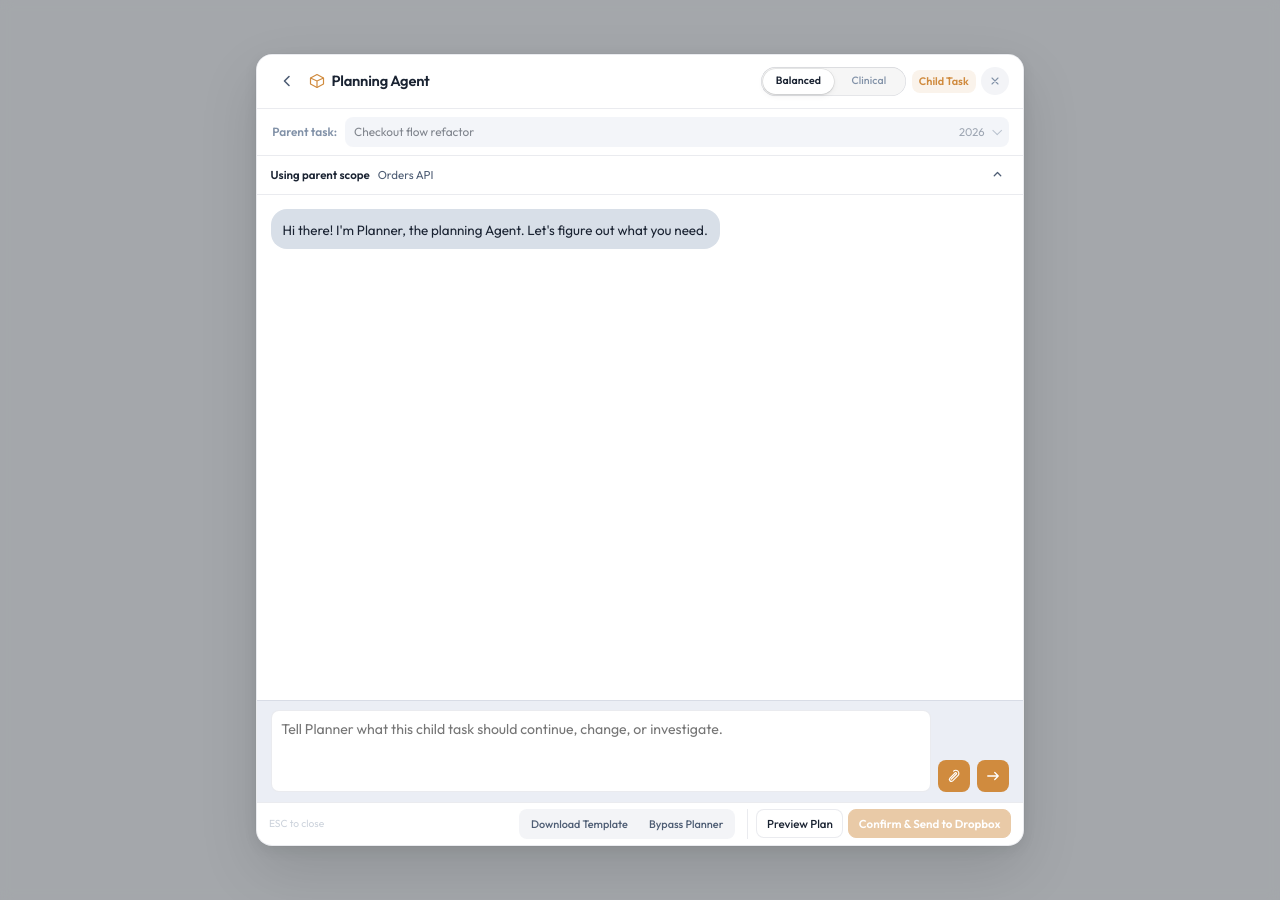
PlannerModal child scope override affordance › collapses and restores the parent task controls
The width and height of the screenshot is (1280, 900).
Check: the text "Orders API" is shown, box x1=378 y1=166 x2=433 y2=184
Click the button named "Collapse parent task controls": (997, 175) x1=985 y1=163 x2=1009 y2=187
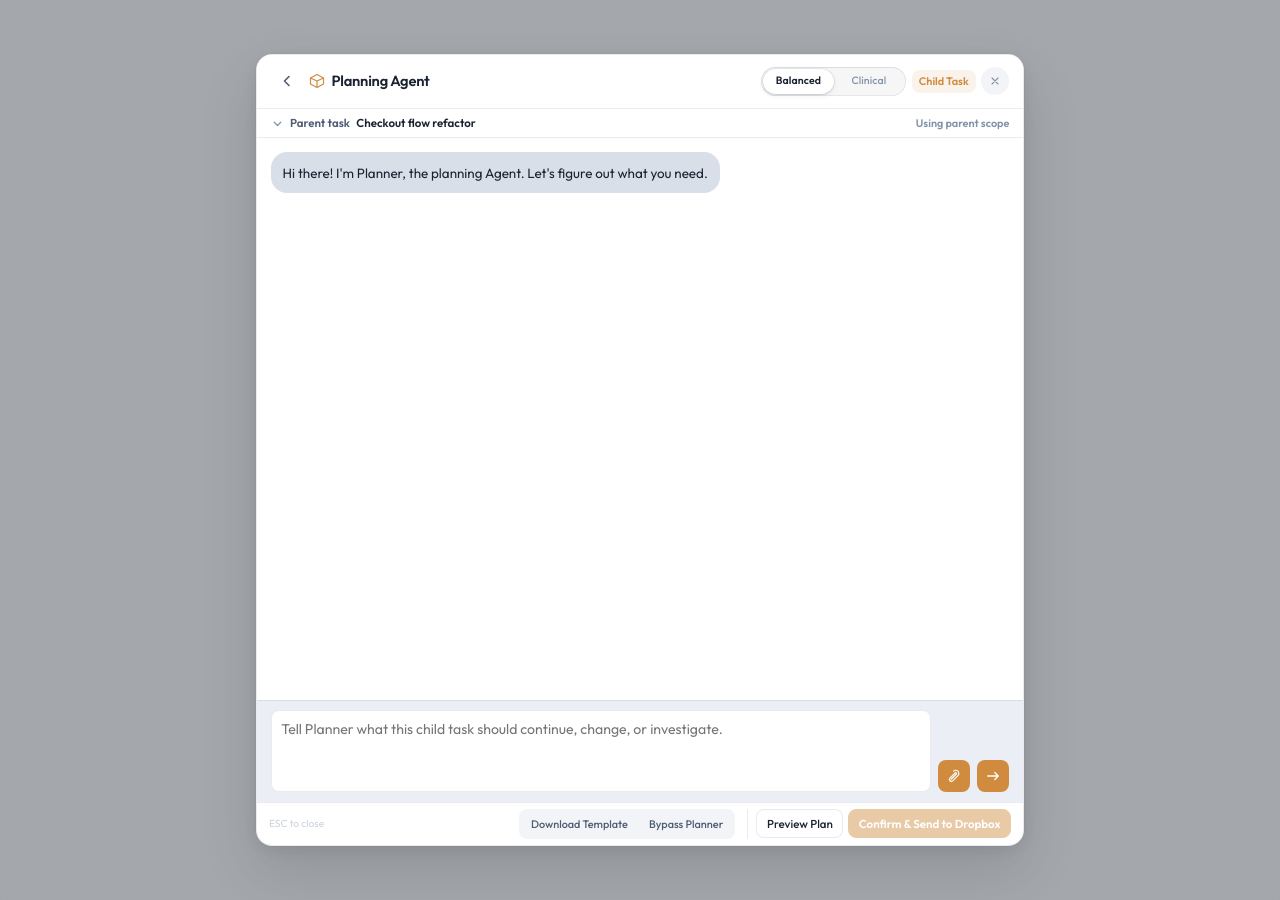
Check: the text "Checkout flow refactor" is shown, box x1=356 y1=114 x2=476 y2=132
Check: the text "Orders API" is gone
Click the button with aria-label "Expand parent task controls": (320, 123) x1=257 y1=109 x2=1023 y2=137
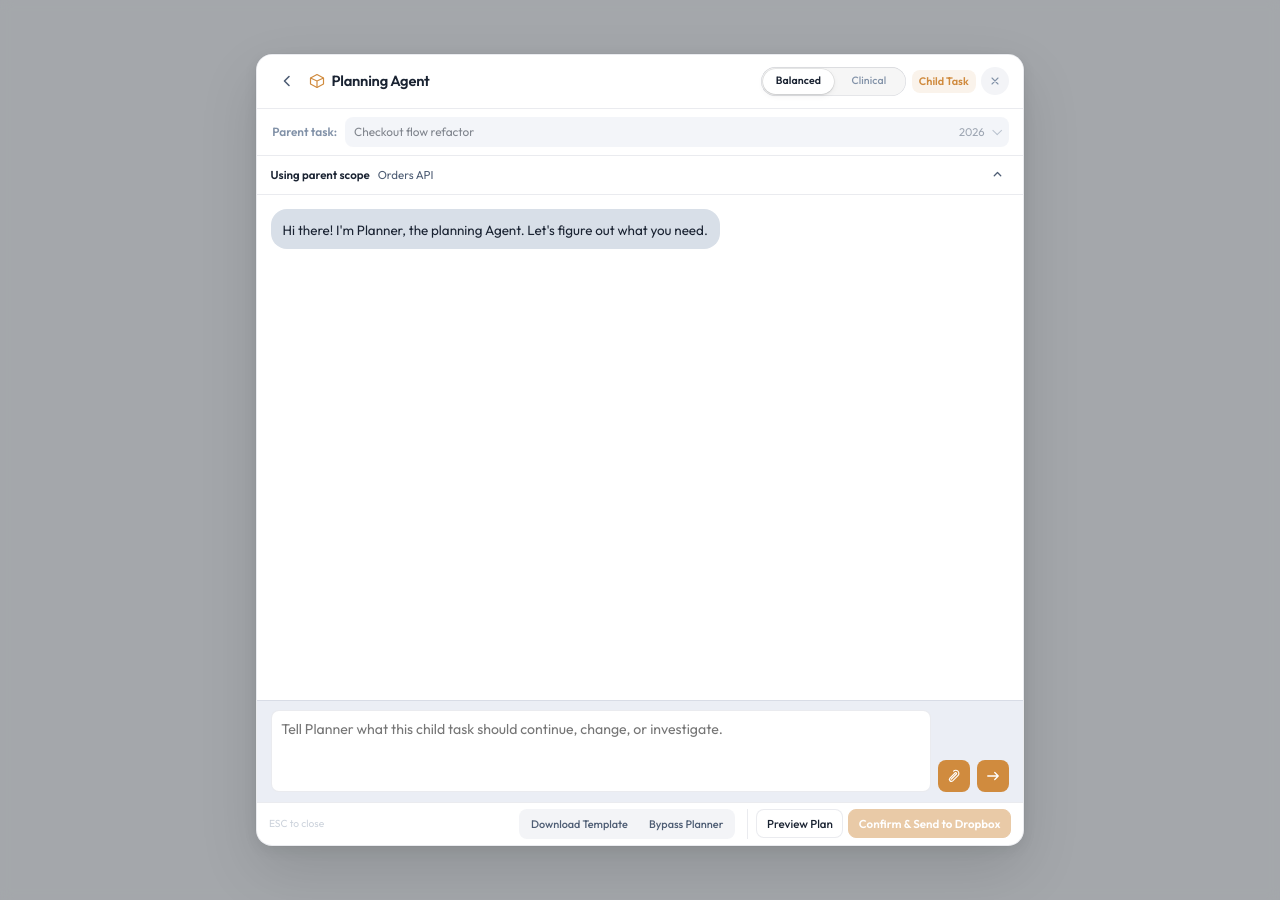
Check: the text "Orders API" is shown, box x1=378 y1=166 x2=433 y2=184
